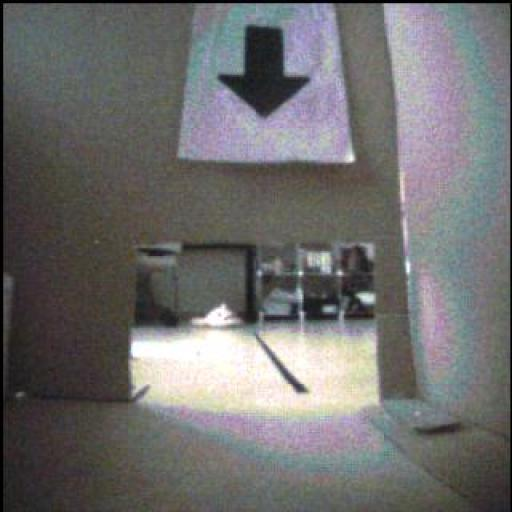arrow: (220, 27, 310, 118)
